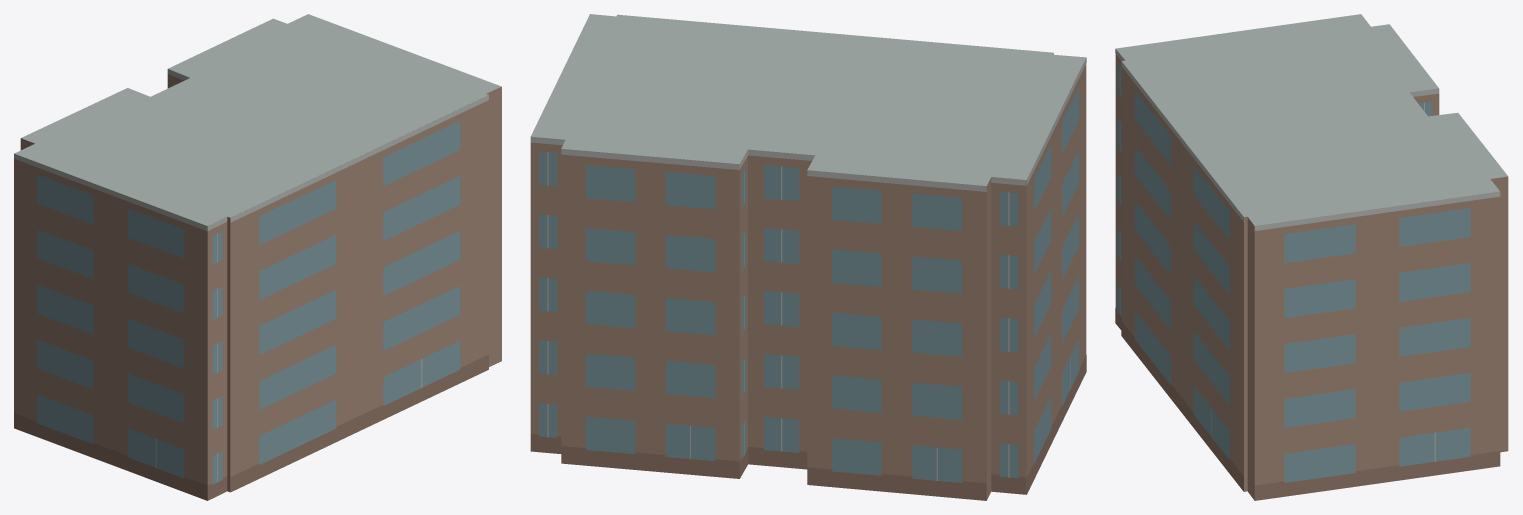
File: survey-upis-32640254.glb
The picture shows the model from 3 angles, left to right: view 1: azimuth 30°, elevation 25°; view 2: azimuth 150°, elevation 25°; view 3: azimuth 270°, elevation 25°; orthographic projection. The views are drawn at different scales.
Parts seen in each view (by area): view 1: survey-upis-32640254.tmp; view 2: survey-upis-32640254.tmp; view 3: survey-upis-32640254.tmp.
Boxes of the visible parts, x1,y1,x2,y2 form: survey-upis-32640254.tmp: (14,14,501,500); survey-upis-32640254.tmp: (530,14,1086,500); survey-upis-32640254.tmp: (1115,14,1508,500).
Size of the model in its own units: 21.78 by 13.15 by 17.05.
